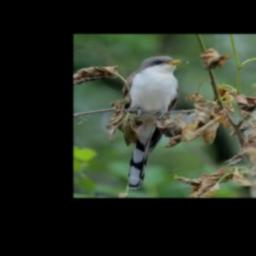Cuckoo: (123, 55, 189, 190)
